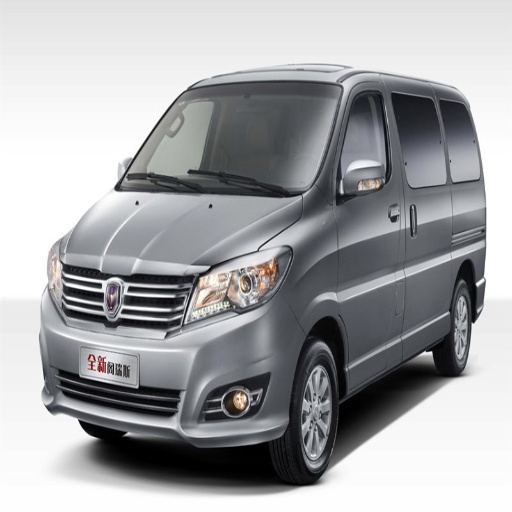front_bumper: (41, 268, 305, 446)
front_glass: (115, 88, 341, 195)
front_left_door: (337, 84, 406, 364)
trunk: (448, 220, 484, 275)
